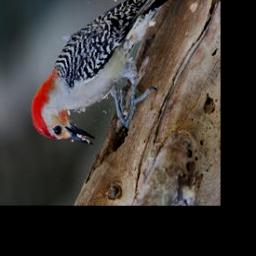Woodpecker: (32, 0, 198, 145)
